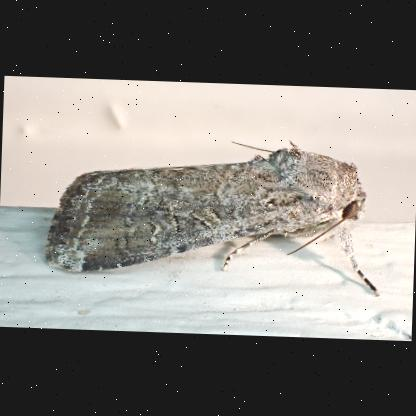Fall Armyworm Moth: (42, 127, 388, 300)
